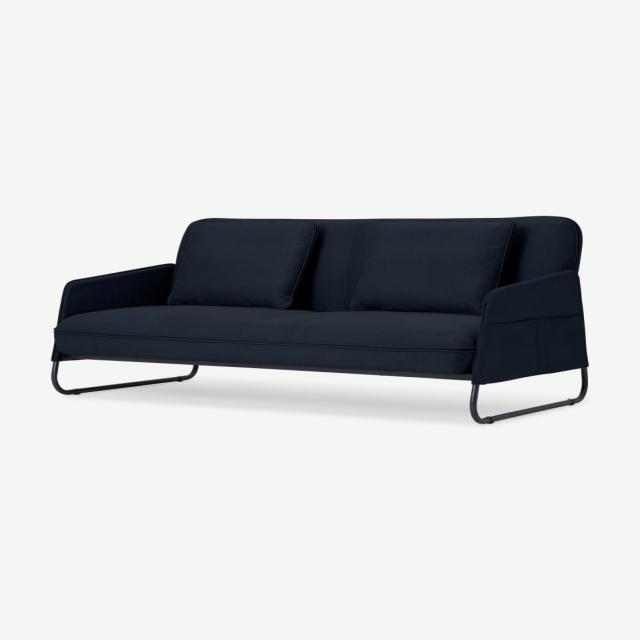Soffa: (36, 211, 601, 432)
